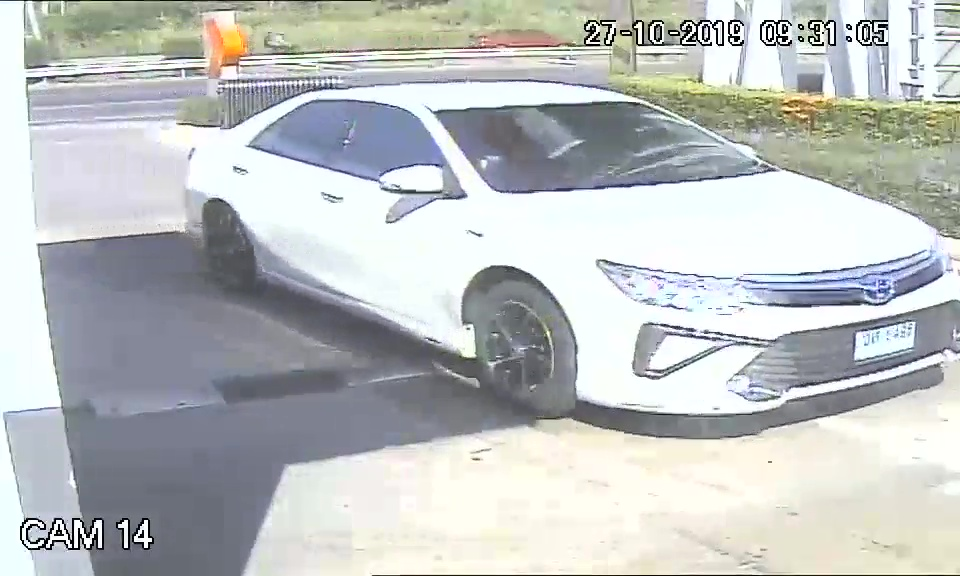sedan: (181, 77, 960, 424)
